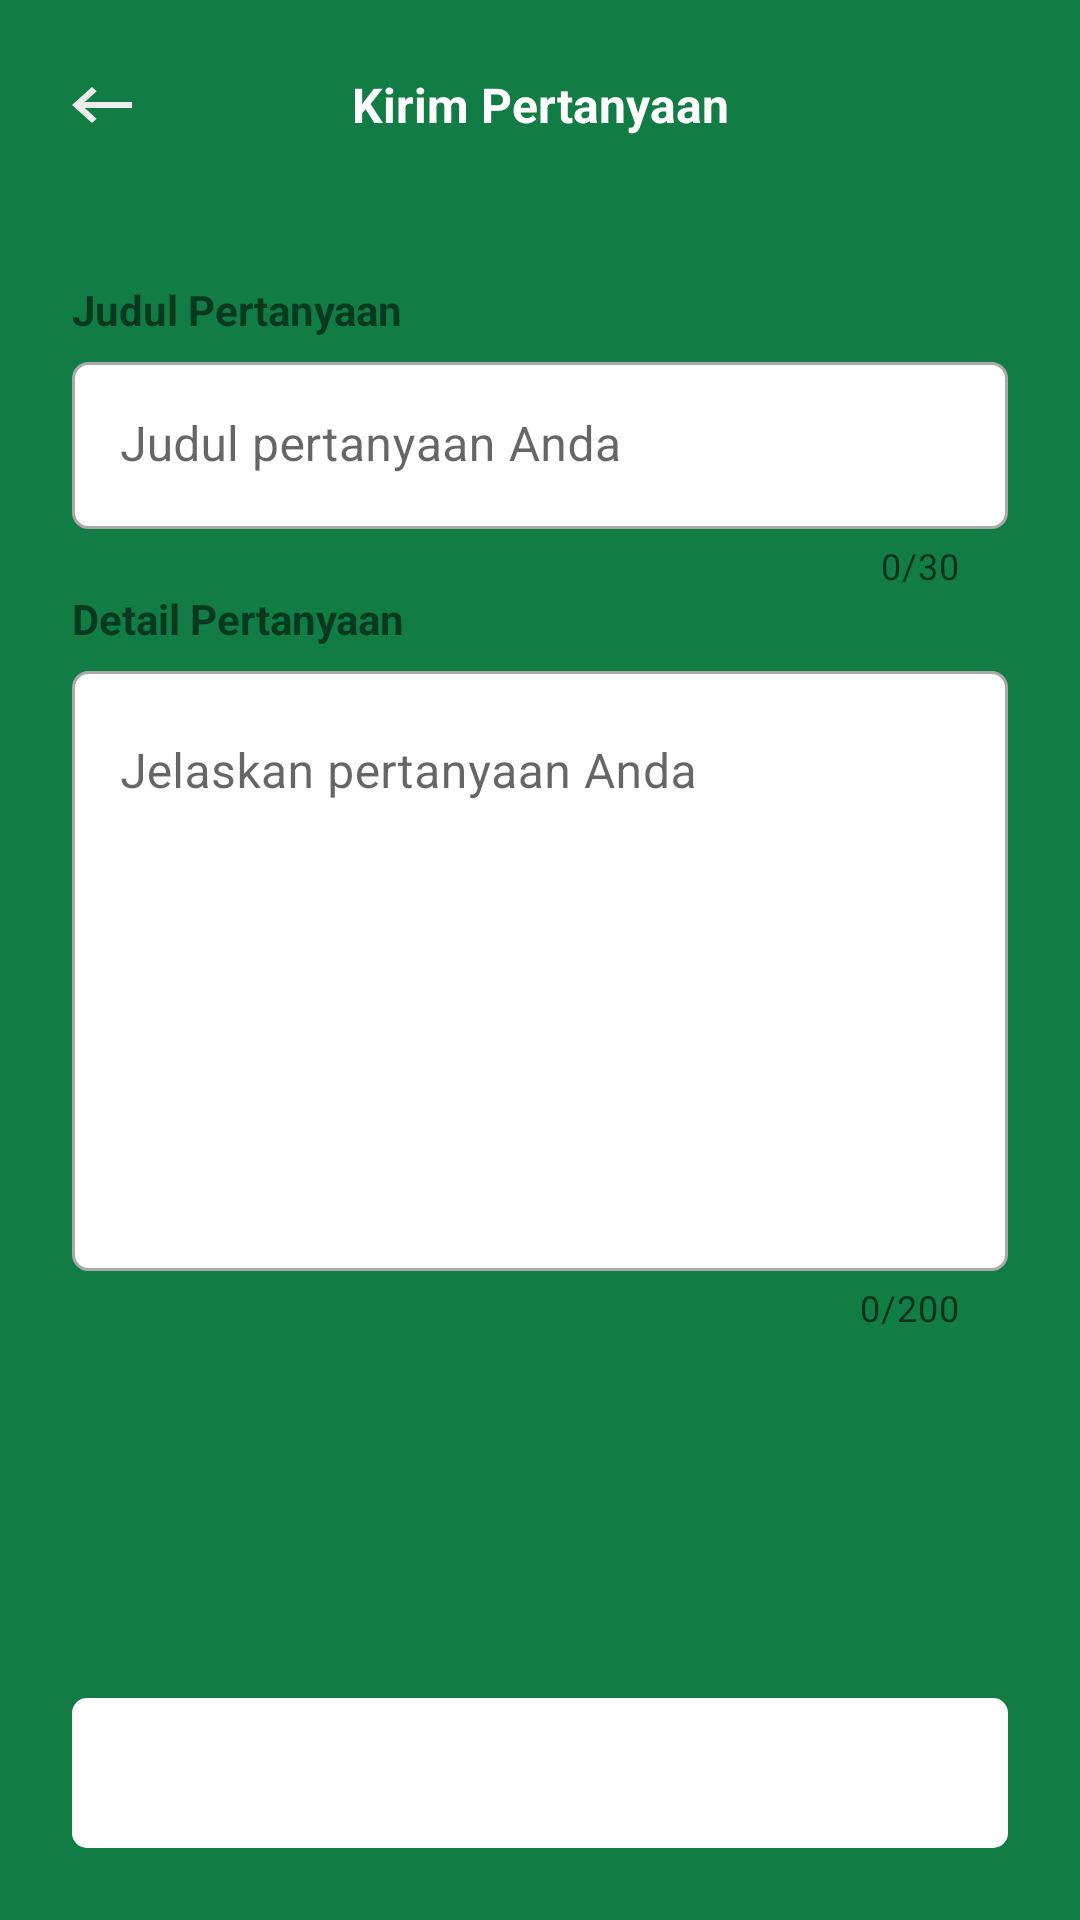

Icons on this 1080×1920 Android screen, each with its box as (x1, y1, x2, y2):
Tombol Mundur: (72, 87, 132, 123)
